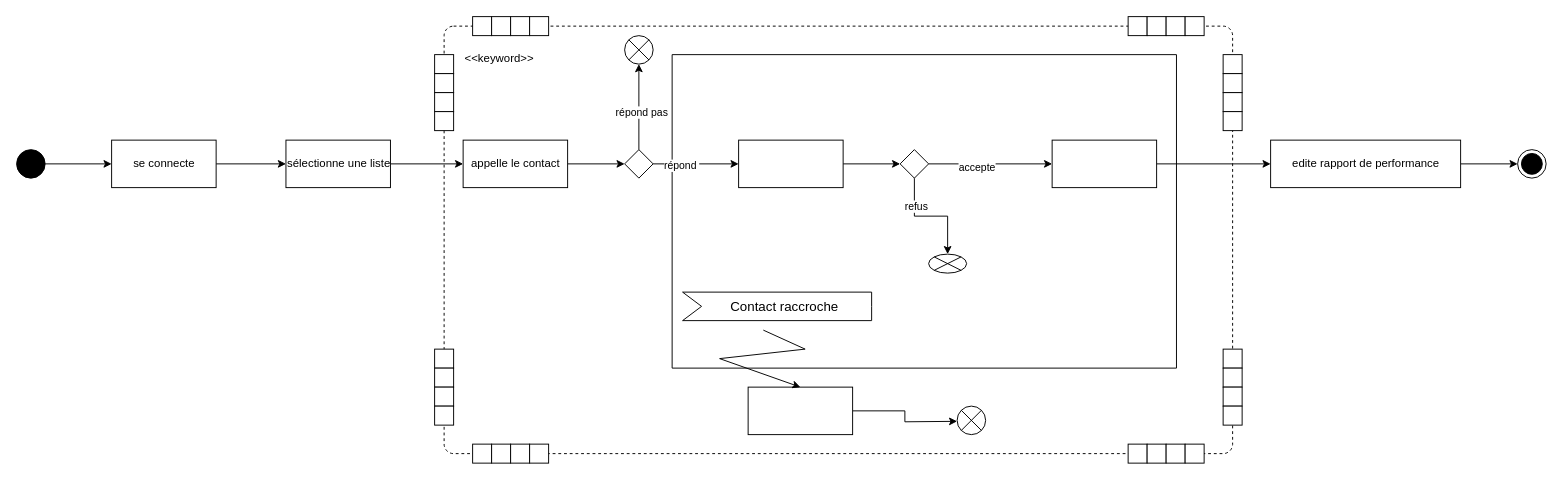
This 1563x480 diagram has some shape labels left out. The centre of each missing label's shape, as x and y in pixels:
fixe un RV: the point at 1104,163
propose offre commerce: the point at 790,163
suppression contact: the point at 800,410
